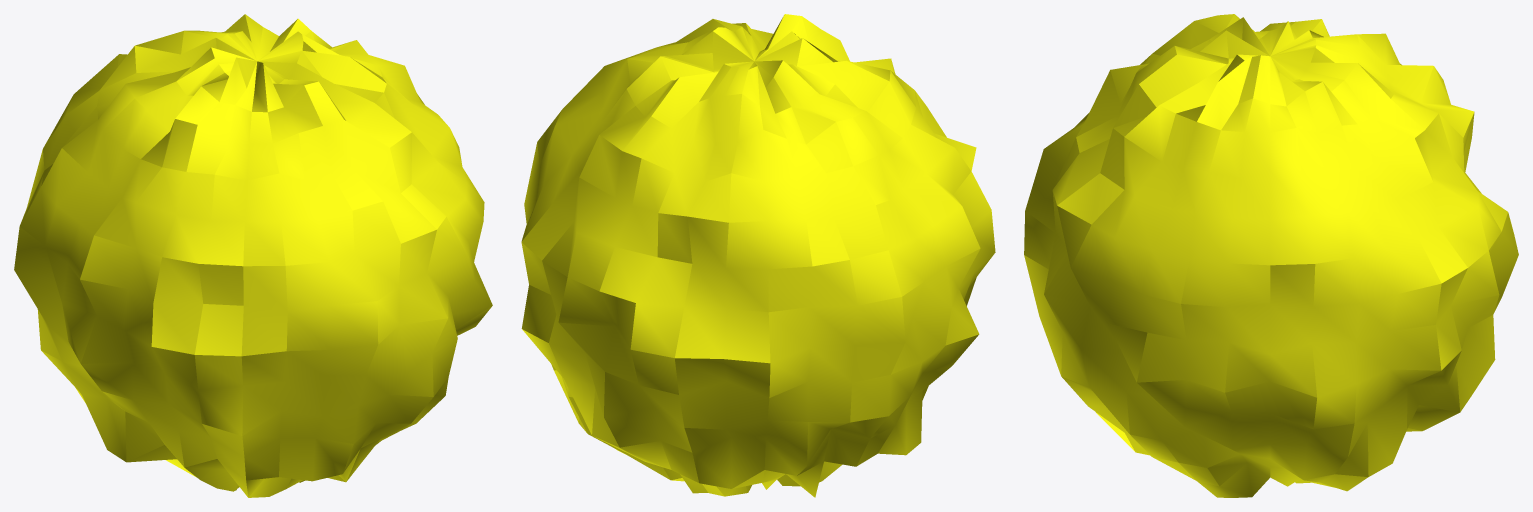
Rendered from starcrumpled.dae.
3 views of the same model, side by side, from view 1: azimuth 30°, elevation 25°; view 2: azimuth 150°, elevation 25°; view 3: azimuth 270°, elevation 25° (orthographic).
Parts seen in each view (by area): view 1: Ball; view 2: Ball; view 3: Ball.
Part boxes in pixels (x1,y1,x2,y2): Ball: (14, 14, 492, 497); Ball: (521, 14, 995, 497); Ball: (1024, 14, 1518, 497).
Bounding box in the file's own units: 113 × 117 × 119.
